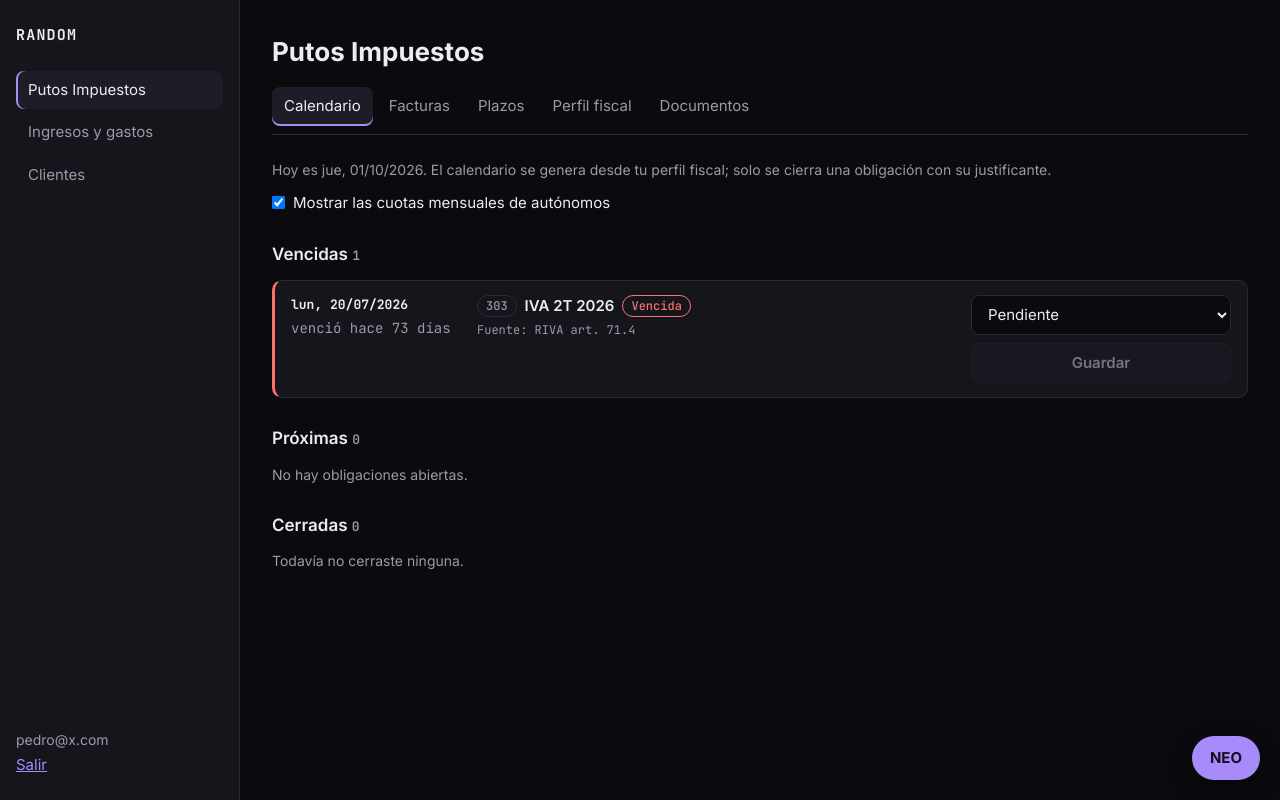
calendario › cerrar una obligación pide justificante y la mueve a cerradas
Expected: the button "Guardar" is disabled, [971,342,1231,383]
Expected: the field labelled "Justificante de IVA 2T 2026" is not shown
Step 1. Select "Presentado" in the dropdown named "Estado de IVA 2T 2026" → (1101, 314), box [971,294,1231,334]
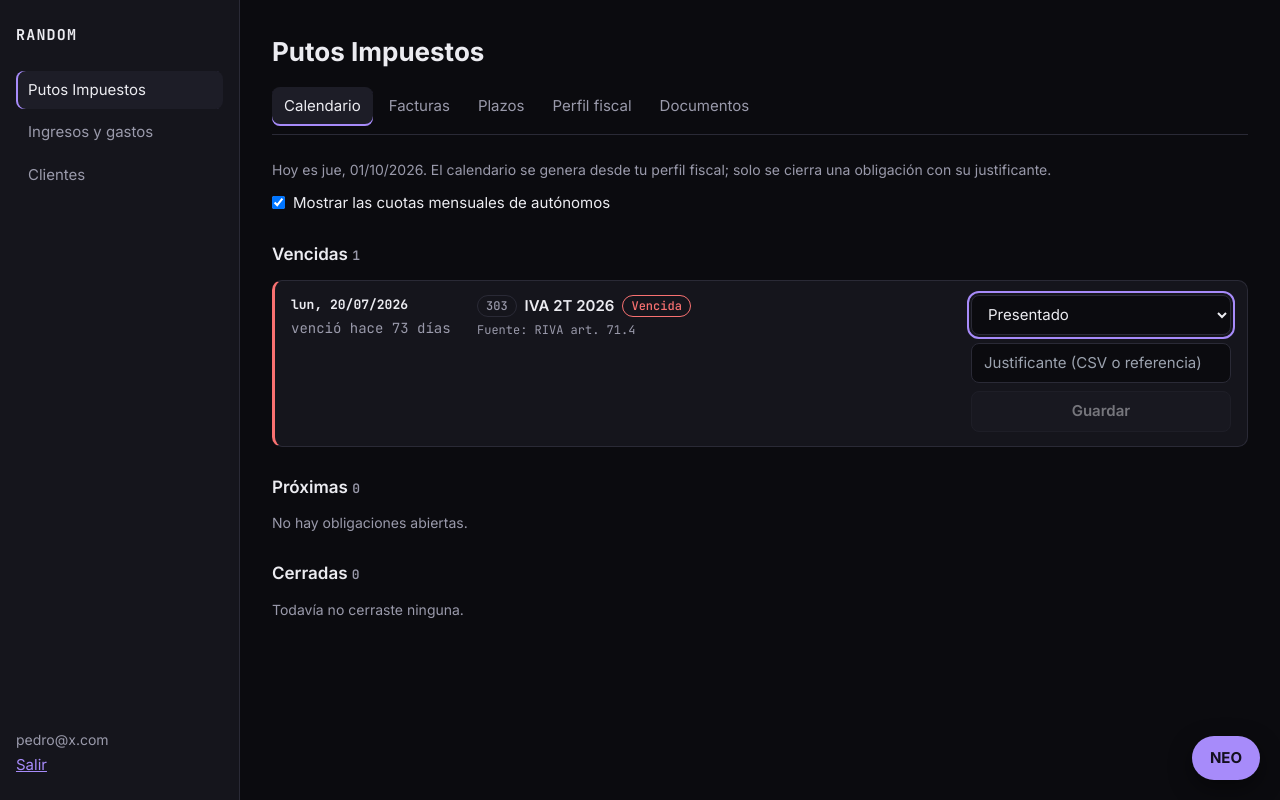
Expected: the button "Guardar" is disabled, [971,391,1231,432]
Step 2. Type " CSV-ABC " into the field named "Justificante de IVA 2T 2026" → (1101, 363), box [971,342,1231,383]
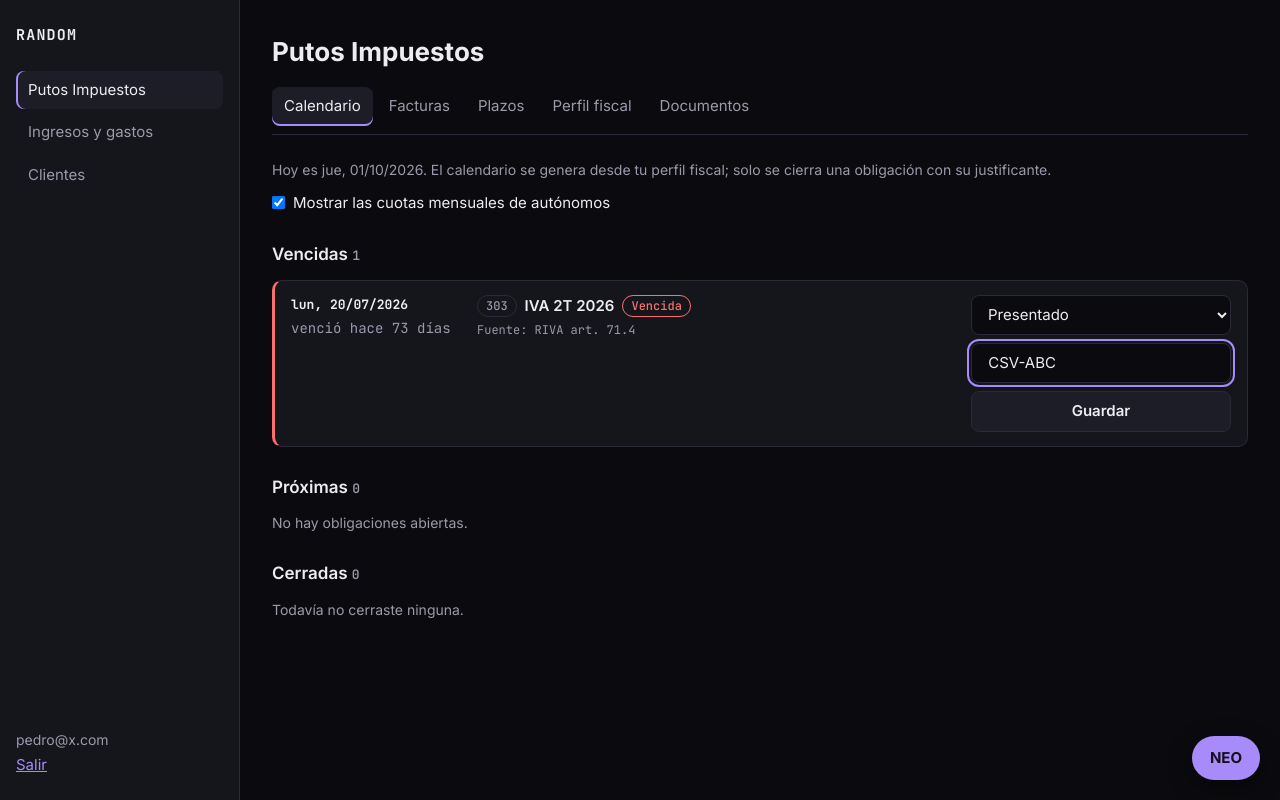
Step 3. Click the button "Guardar" → (1101, 411), box [971,391,1231,432]
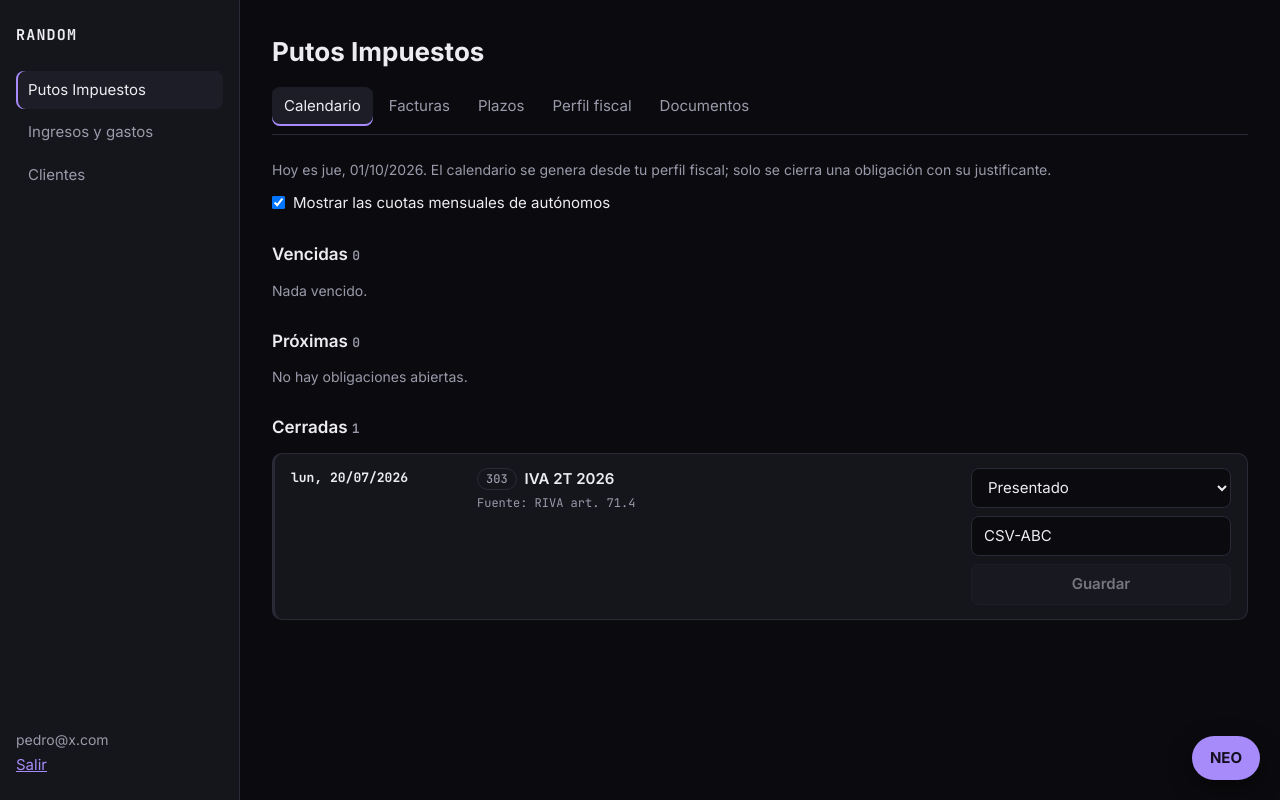
Expected: the text "IVA 2T 2026" is shown, [525,468,614,488]
Now the text "Nada vencido." is shown, box [272,282,367,298]
